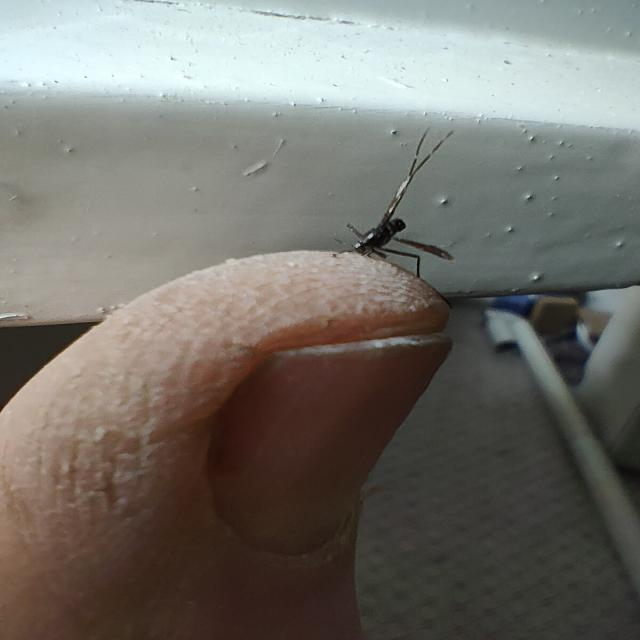albopictus: (321, 116, 467, 278)
